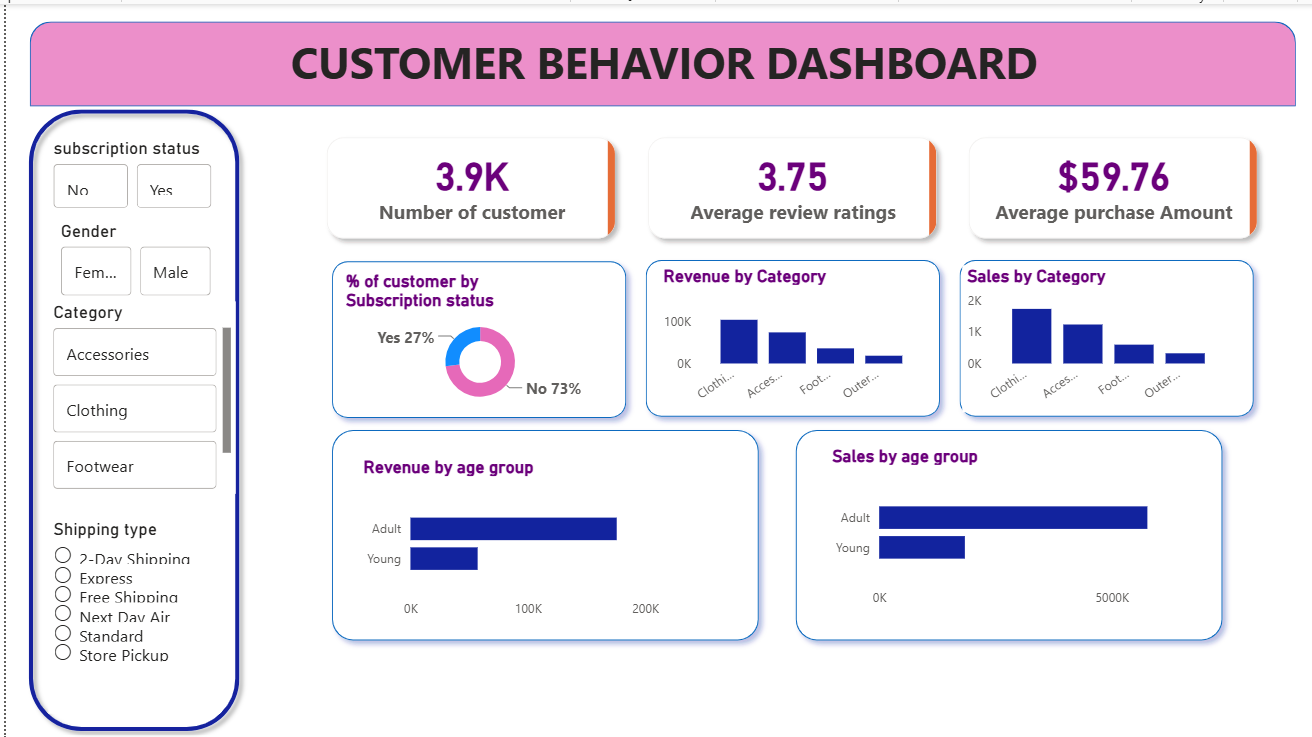

This screenshot's page, from the dashboard's own definition file:
{"tool":"powerbi","page":{"name":"Page 1","canvas":[1280,720],"ordinal":0},"visuals":[{"type":"shape","box":[309.4,407.2,436.6,225],"z":0},{"type":"cardVisual","fields":{"Data":["_Measure.Number of customer","_Measure.Average review ratings","_Measure.Average purchase Amount"]},"box":[284.9,101.5,970.9,157.7],"z":1000},{"type":"shape","box":[23.2,17.1,1238.7,83.2],"z":2000},{"type":"textbox","box":[48.9,22,1189.8,72.1],"z":3000},{"type":"shape","box":[309.4,242.1,306.9,172.4],"z":4000},{"type":"donutChart","title":"% of customer by Subscription status","fields":{"Category":["public customer.subscription_status"],"Y":["Count(public customer.customer_id)"]},"box":[327.7,260.5,272.7,138.2],"z":5000},{"type":"shape","box":[616.3,240.9,306.9,172.4],"z":6000},{"type":"shape","box":[923.2,240.9,306.9,172.4],"z":7000},{"type":"clusteredColumnChart","title":"Revenue by Category","fields":{"Y":["Sum(public customer.purchase_amount_usd)"],"Category":["public customer.category"]},"box":[638.3,255.6,264.1,144.3],"z":8000},{"type":"clusteredColumnChart","title":"Sales by Category","fields":{"Y":["CountNonNull(public customer.customer_id)"],"Category":["public customer.category"]},"box":[935.5,255.6,264.1,144.3],"z":9000},{"type":"shape","box":[13.5,94.2,223.8,626.1],"z":10000},{"type":"advancedSlicerVisual","fields":{"Values":["public customer.subscription_status"]},"box":[41.6,130.8,165.1,74.6],"z":11000},{"type":"advancedSlicerVisual","fields":{"Values":["public customer.gender"]},"box":[48.9,211.6,157.7,79.5],"z":12000},{"type":"advancedSlicerVisual","fields":{"Values":["public customer.category"]},"box":[41.6,291,183.4,188.3],"z":13000},{"type":"listSlicer","fields":{"Values":["public customer.shipping_type"]},"box":[41.6,503.8,165.1,190.8],"z":14000},{"type":"clusteredBarChart","title":"Revenue by age group","fields":{"Category":["public customer.Age group"],"Y":["Sum(public customer.purchase_amount_usd)"]},"box":[344.8,442.7,299.6,167.5],"z":15000},{"type":"shape","box":[763,407.2,436.6,225],"z":15001},{"type":"clusteredBarChart","title":"Sales by age group","fields":{"Category":["public customer.Age group"],"Y":["Sum(public customer.customer_id)"]},"box":[803.4,431.7,346.1,167.5],"z":15002}]}

Visuals, with their boxes in screenshot pixels (x1, y1, x2, y2), scaled from the page's 1280x720 canvas onto the 1312x737 screenshot:
shape: 317/417/765/647
cardVisual - _Measure.Number of customer x _Measure.Average review ratings: 292/104/1287/265
shape: 24/18/1293/103
textbox: 50/23/1270/96
shape: 317/248/632/424
"% of customer by Subscription status" donutChart: 336/267/615/408
shape: 632/247/946/423
shape: 946/247/1261/423
"Revenue by Category" clusteredColumnChart: 654/262/925/409
"Sales by Category" clusteredColumnChart: 959/262/1230/409
shape: 14/96/243/736
advancedSlicerVisual - public customer.subscription_status: 43/134/212/210
advancedSlicerVisual - public customer.gender: 50/217/212/298
advancedSlicerVisual - public customer.category: 43/298/231/491
listSlicer - public customer.shipping_type: 43/516/212/711
"Revenue by age group" clusteredBarChart: 353/453/661/625
shape: 782/417/1230/647
"Sales by age group" clusteredBarChart: 823/442/1178/613
